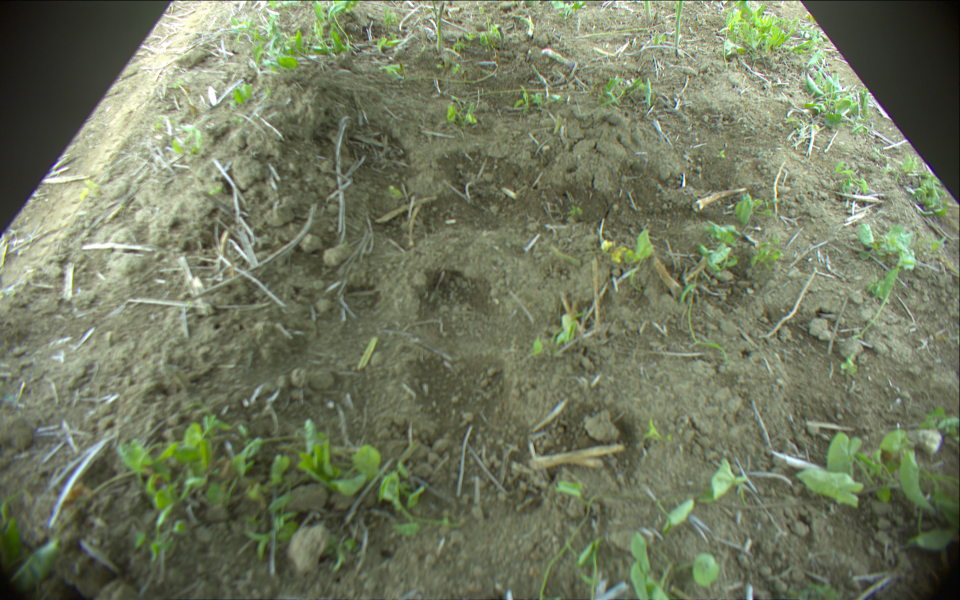aspa: (676, 1, 687, 57), (435, 1, 444, 51), (644, 1, 654, 24)
